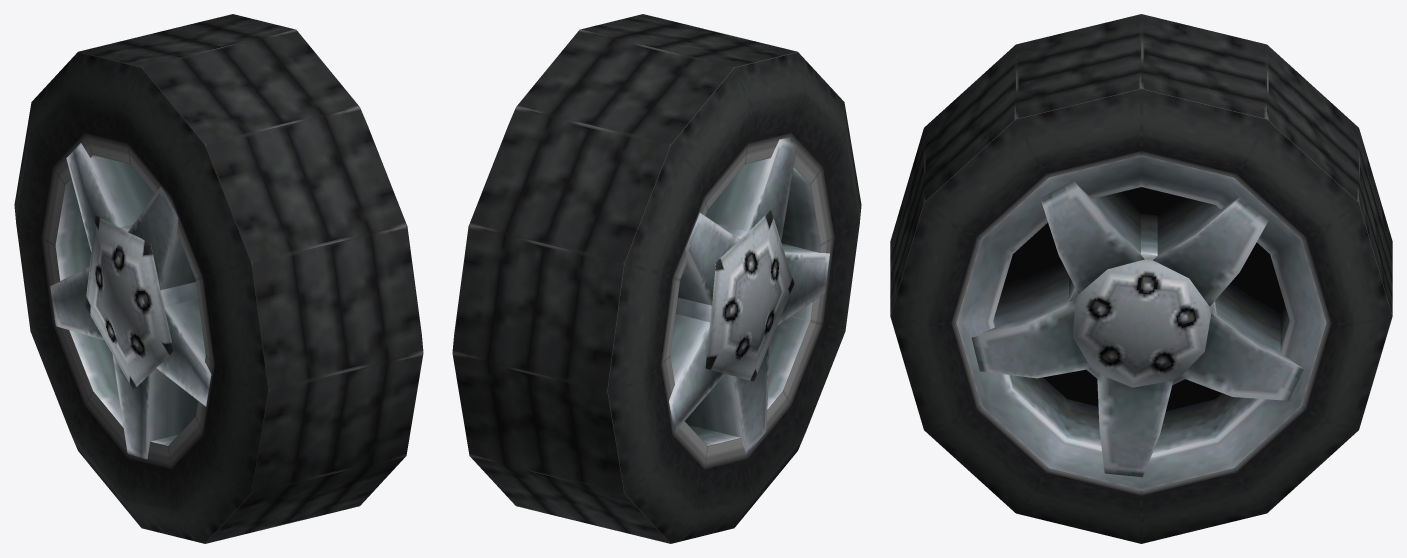
Rendered from DefaultWheel_bullet.glb.
The picture shows the model from 3 angles, left to right: view 1: azimuth 30°, elevation 25°; view 2: azimuth 150°, elevation 25°; view 3: azimuth 270°, elevation 25°; orthographic projection.
Parts seen in each view (by area): view 1: wheel; view 2: wheel; view 3: wheel.
Part boxes in pixels (left/top/right/bottom): wheel: left=14, top=14, right=423, bottom=543; wheel: left=452, top=14, right=861, bottom=543; wheel: left=890, top=14, right=1392, bottom=543.
Size of the model in its own units: 0.3373 by 0.7 by 0.7.
4 materials, 3 textured.
